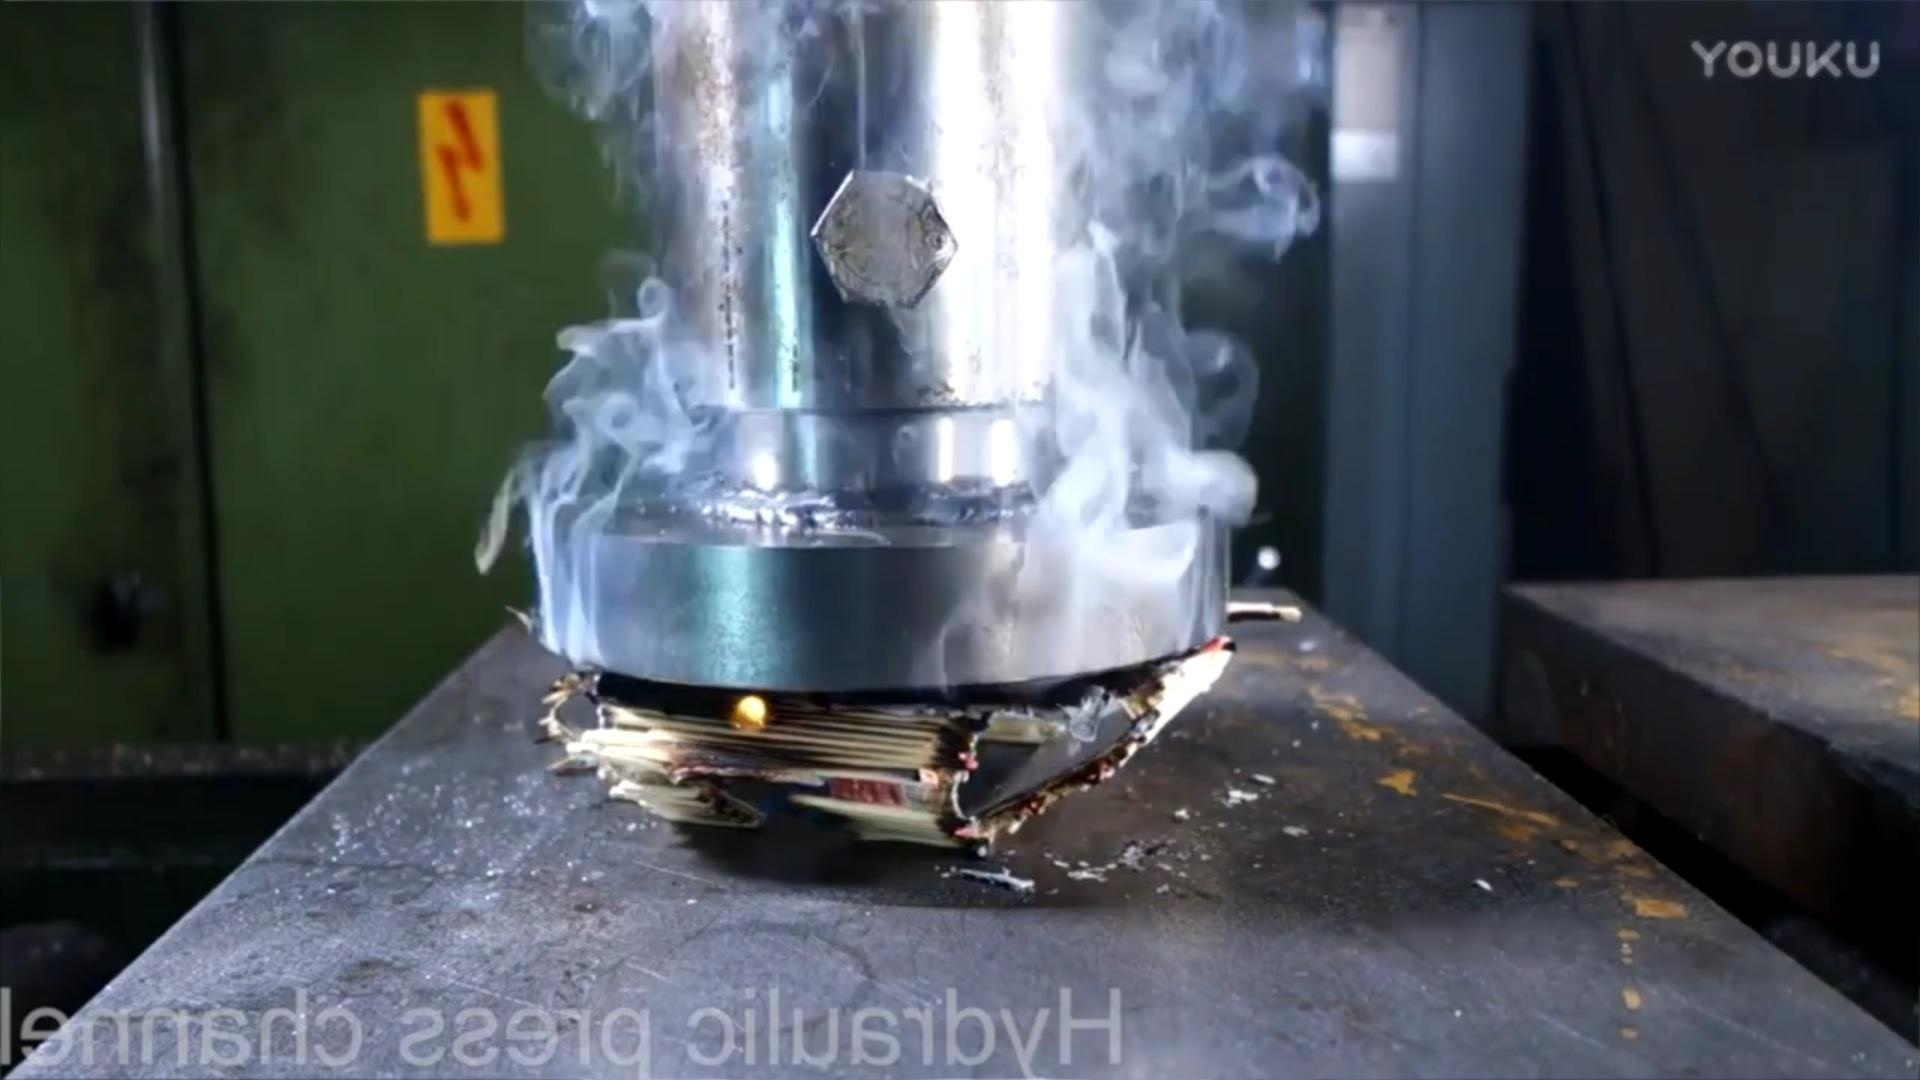fire: (415, 75, 500, 245)
